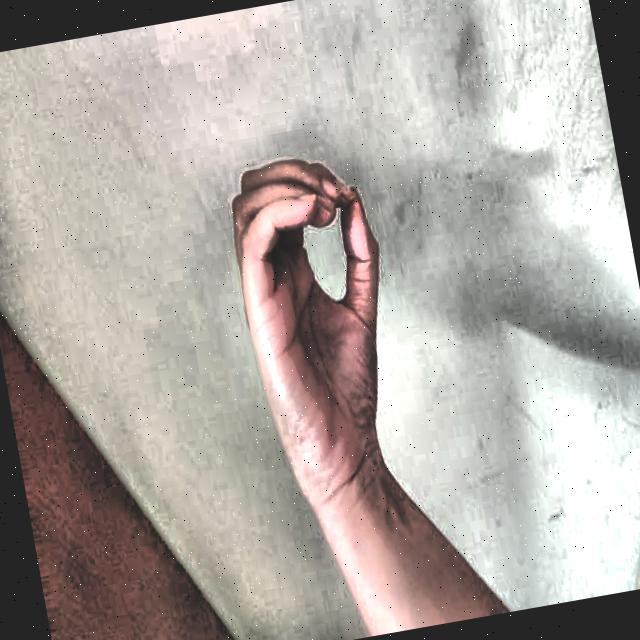O: (188, 117, 445, 528)
